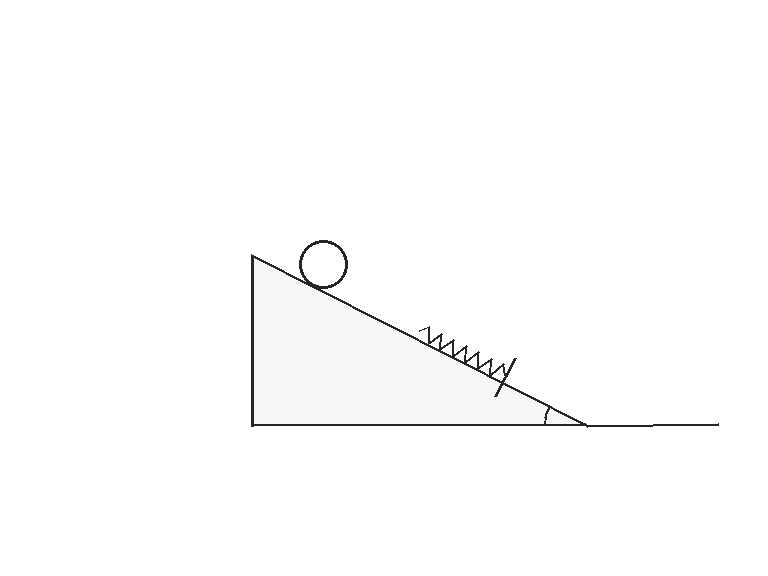ball: (297, 238, 349, 290)
ramp: (250, 253, 587, 427)
spring: (417, 325, 508, 377)
